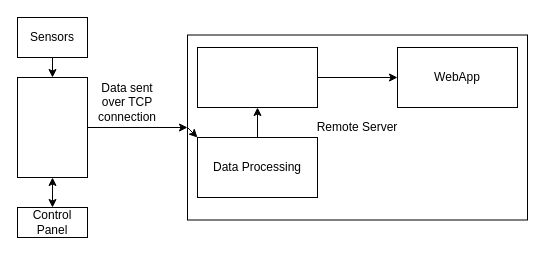
This 545x255 diagram has some shape labels left out. The centre of each missing label's shape, as x and y in pixels:
Database: (x=257, y=77)
IoT device: (x=52, y=127)
